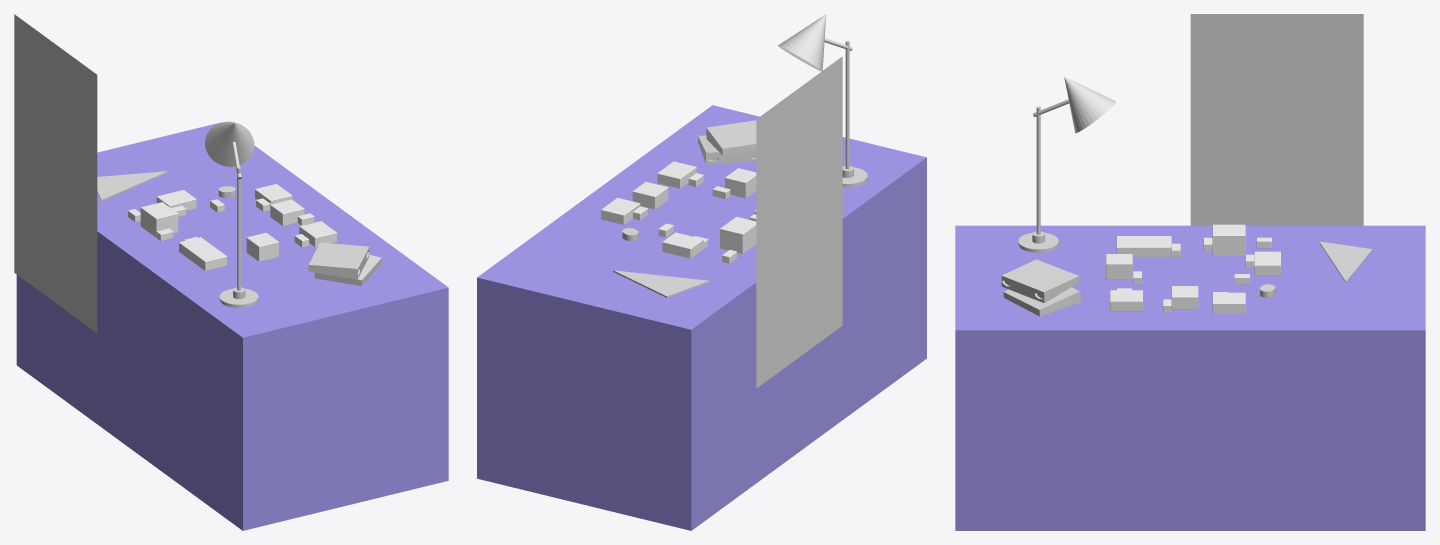
Rendered from pageLayout-06.glb.
3 renders of one model, left to right at view 1: azimuth 30°, elevation 25°; view 2: azimuth 150°, elevation 25°; view 3: azimuth 270°, elevation 25°, orthographic. The views are drawn at different scales.
Parts seen in each view (by area): view 1: deskPlane, pictureFrame, Cylinder.014, Cube.019, neighboar_002, Plane.007, neighboar_005, neighboar_003, neighboar_012, neighboar_010, Cube.018, neighboar_001 (+1 smaller); view 2: deskPlane, pictureFrame, Cylinder.014, Cube.019, Plane.007, neighboar_005, neighboar_001, Cube.018, neighboar_003, neighboar_012, neighboar_010, neighboar_015; view 3: deskPlane, pictureFrame, Cylinder.014, Cube.019, neighboar_002, Cube.018, Plane.007, neighboar_005, neighboar_015, neighboar_010, neighboar_003, neighboar_001 (+1 smaller).
Part boxes in pixels (x1,y1,x2,y2): deskPlane: (16, 122, 448, 530); pictureFrame: (14, 14, 97, 332); Cylinder.014: (205, 121, 258, 307); Cube.019: (308, 242, 369, 279); neighboar_002: (179, 237, 227, 270); Plane.007: (97, 171, 168, 201); neighboar_005: (140, 202, 178, 237); neighboar_003: (246, 232, 278, 261); neighboar_012: (270, 199, 304, 226); neighboar_010: (299, 221, 337, 247); Cube.018: (314, 254, 381, 285); neighboar_001: (156, 190, 196, 210); deskPlane: (477, 105, 926, 530); pictureFrame: (756, 56, 842, 388); Cylinder.014: (778, 14, 867, 187); Cube.019: (706, 120, 756, 155); Plane.007: (613, 270, 709, 297); neighboar_005: (720, 216, 756, 253); neighboar_001: (662, 232, 703, 258); Cube.018: (698, 135, 756, 164); neighboar_003: (725, 168, 756, 198); neighboar_012: (632, 181, 668, 209); neighboar_010: (657, 161, 696, 188); neighboar_015: (601, 197, 640, 224); deskPlane: (955, 225, 1425, 530); pictureFrame: (1190, 14, 1363, 225); Cylinder.014: (1018, 77, 1115, 252); Cube.019: (1001, 259, 1079, 303); neighboar_002: (1116, 236, 1171, 256); Cube.018: (1003, 287, 1080, 316); Plane.007: (1319, 241, 1372, 282); neighboar_005: (1212, 224, 1245, 255); neighboar_015: (1212, 292, 1245, 313); neighboar_010: (1110, 290, 1142, 311); neighboar_003: (1106, 254, 1132, 279); neighboar_001: (1254, 251, 1280, 275).
Bounding box in the file's own units: 129 × 197 × 212.
